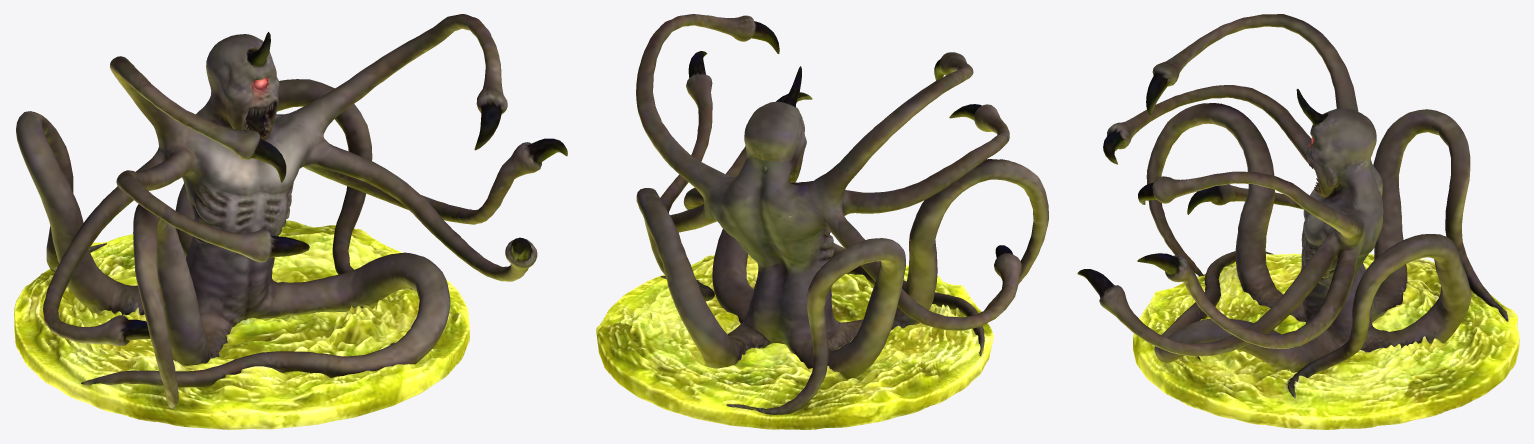
The model's file is MZ4250 - Zargon.glb.
3 views of the same model, side by side, from view 1: azimuth 30°, elevation 25°; view 2: azimuth 150°, elevation 25°; view 3: azimuth 270°, elevation 25° (orthographic). The views are drawn at different scales.
Visible parts, largest first — view 1: Zargon.001; view 2: Zargon.001; view 3: Zargon.001.
Part boxes in pixels (x1=…): Zargon.001: x1=14, y1=14, x2=567, y2=429; Zargon.001: x1=596, y1=14, x2=1048, y2=429; Zargon.001: x1=1077, y1=14, x2=1519, y2=429.
Size of the model in its own units: 395 by 283 by 413.
1 material, 1 textured.
